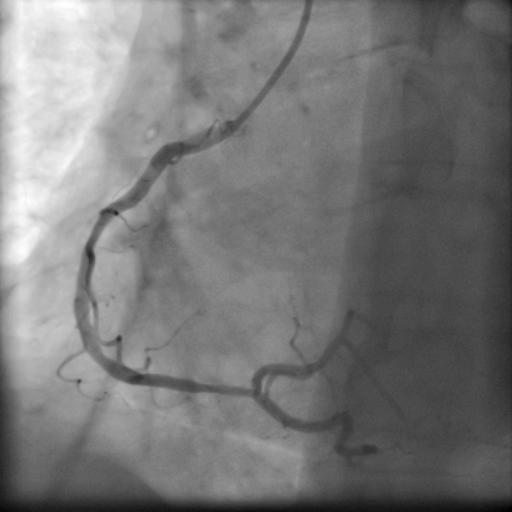Stenosis: (201, 376, 258, 402)
